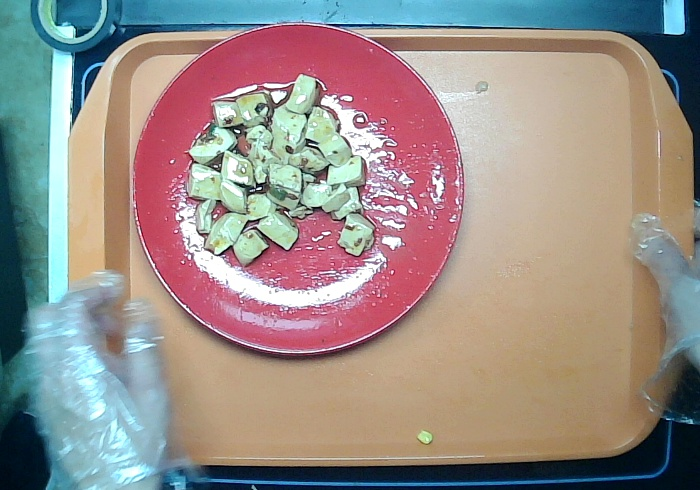HZYJPL-Hong_Se_Yuan_Pan: (127, 19, 462, 355)
